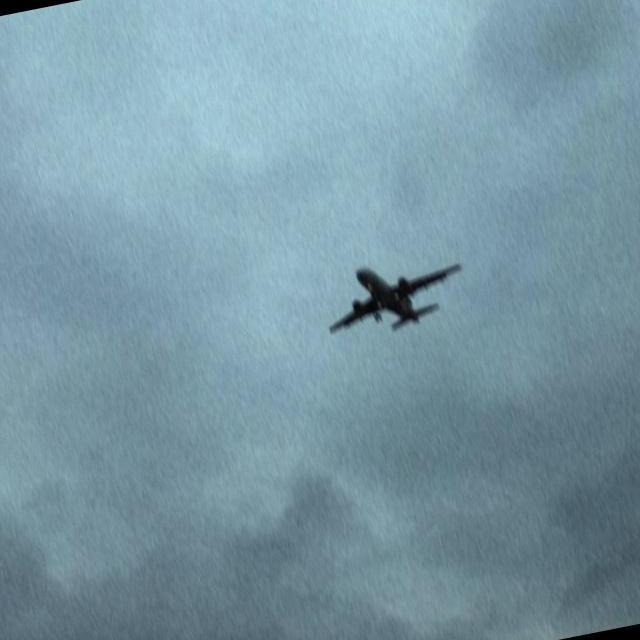airplane: (323, 257, 462, 334)
